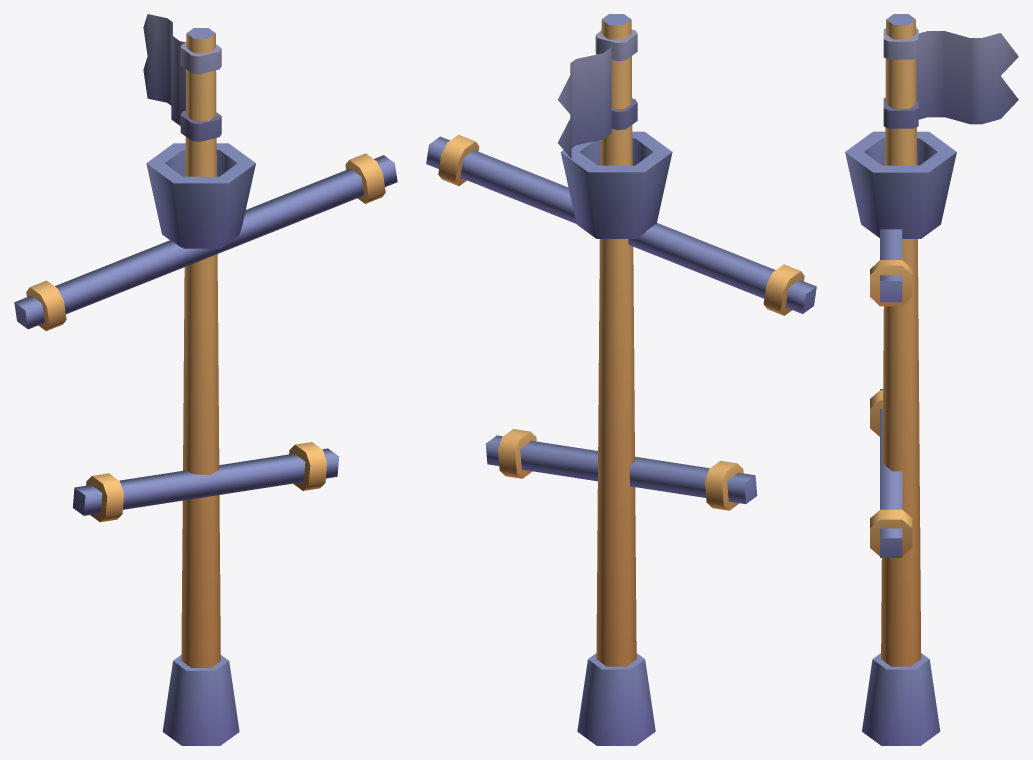
Rendered from mast.fbx.
The picture shows the model from 3 angles, left to right: view 1: azimuth 30°, elevation 25°; view 2: azimuth 150°, elevation 25°; view 3: azimuth 270°, elevation 25°; orthographic projection.
Parts seen in each view (by area): view 1: mast, sail-a, flag-c; view 2: mast, sail-a, flag-c; view 3: mast, flag-c, sail-a.
Part boxes in pixels (left/top/right/bottom): mast: left=146, top=28, right=255, bottom=745; sail-a: left=14, top=153, right=397, bottom=522; flag-c: left=143, top=14, right=221, bottom=141; mast: left=560, top=14, right=672, bottom=745; sail-a: left=426, top=134, right=816, bottom=510; flag-c: left=557, top=29, right=637, bottom=158; mast: left=845, top=14, right=956, bottom=745; flag-c: left=883, top=28, right=1018, bottom=128; sail-a: left=870, top=229, right=912, bottom=557.
Bounding box in the file's own units: 439 × 786 × 174.
